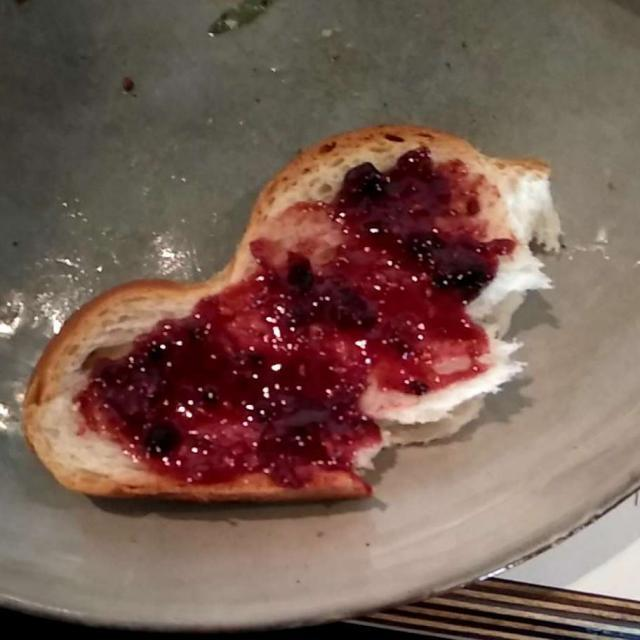bread: (30, 127, 555, 505)
jam: (87, 147, 506, 462)
